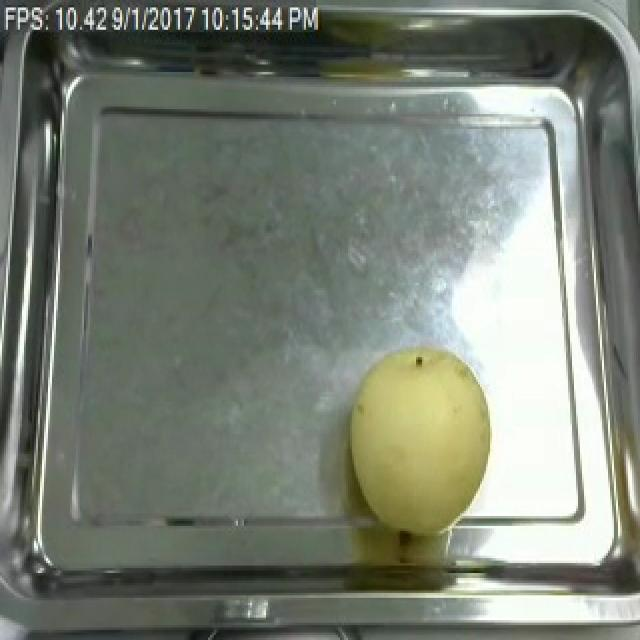Fruit: (340, 335, 502, 538)
